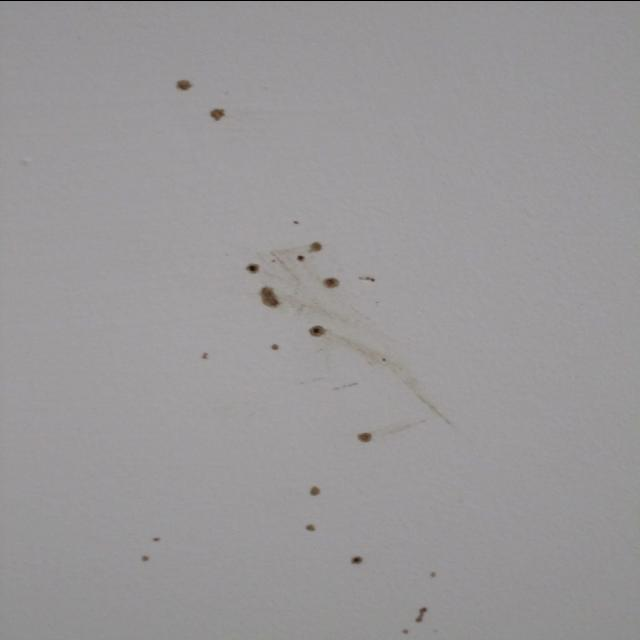Crack: (320, 276, 340, 293), (411, 599, 424, 625), (263, 286, 276, 308), (210, 108, 228, 123), (310, 323, 326, 338), (177, 81, 192, 92), (139, 553, 152, 565), (307, 484, 319, 496), (270, 344, 281, 356), (312, 243, 322, 256), (248, 262, 258, 275), (151, 531, 161, 544), (426, 566, 436, 578), (401, 623, 408, 640), (292, 256, 305, 264), (360, 432, 370, 441), (304, 524, 312, 534), (350, 557, 358, 564), (200, 352, 207, 358)
